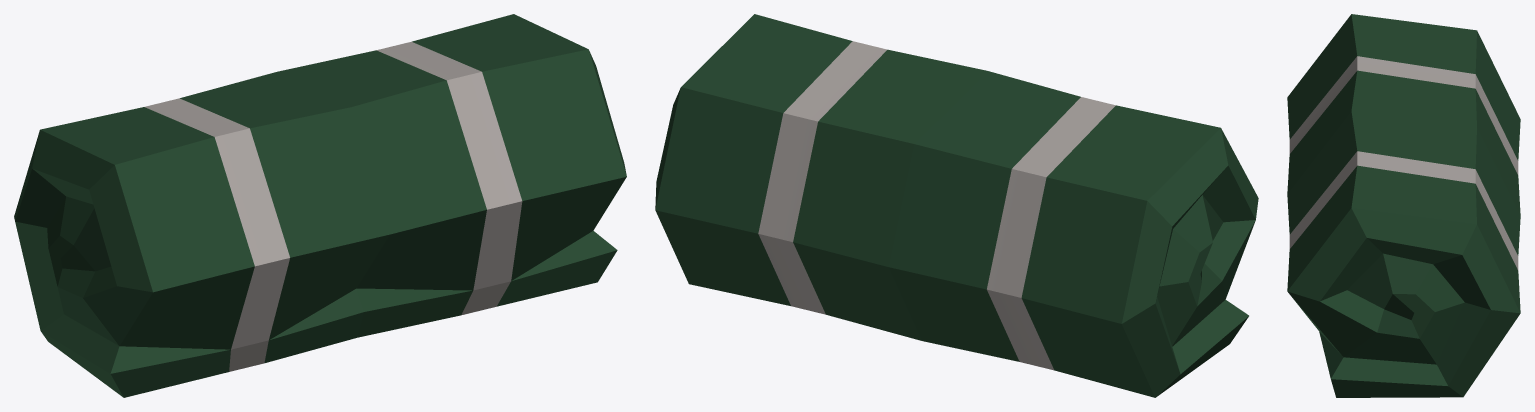
Rendered from survival_sleeping-bag.fbx.
3 renders of one model, left to right at view 1: azimuth 30°, elevation 25°; view 2: azimuth 150°, elevation 25°; view 3: azimuth 270°, elevation 25°, orthographic. The views are drawn at different scales.
Parts seen in each view (by area): view 1: survival_sleeping_bag; view 2: survival_sleeping_bag; view 3: survival_sleeping_bag.
Part boxes in pixels (<box>): survival_sleeping_bag: <box>14,14,626,397</box>; survival_sleeping_bag: <box>655,14,1258,397</box>; survival_sleeping_bag: <box>1287,14,1520,397</box>.
Bounding box in the file's own units: 200 × 85.4 × 95.
